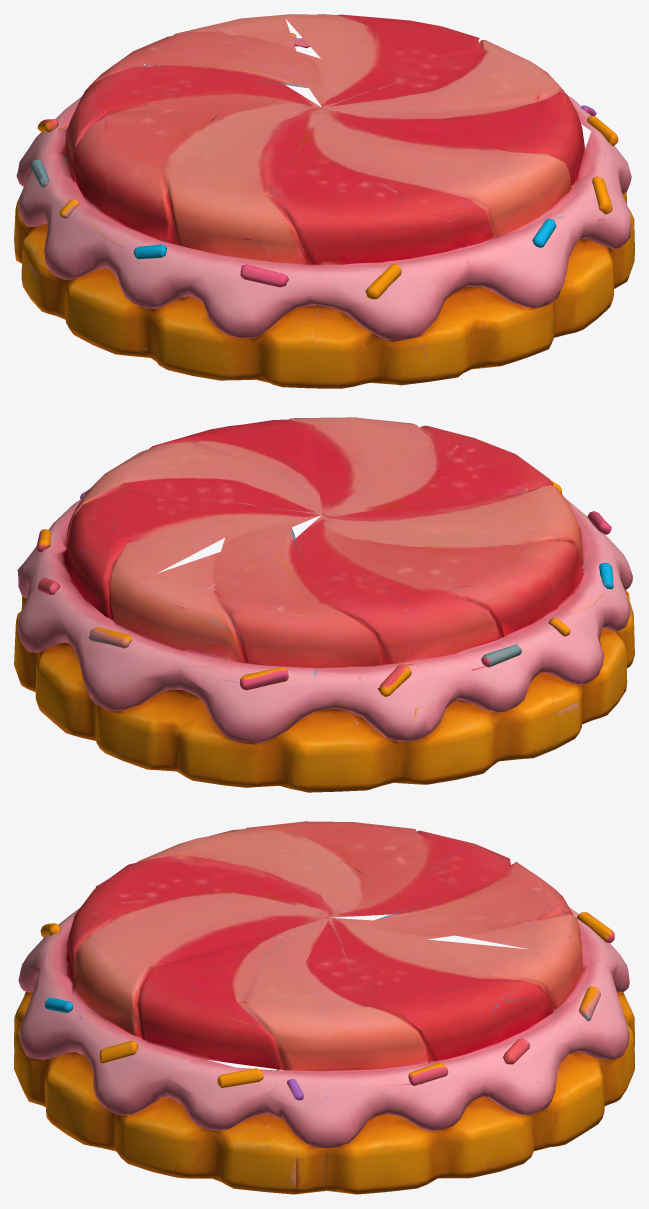
Rendered from candy_plate.glb.
3 renders of one model, top to bottom at view 1: azimuth 30°, elevation 25°; view 2: azimuth 150°, elevation 25°; view 3: azimuth 270°, elevation 25°, orthographic.
Size of what is drawn, in the model's own units: 3.57 by 1 by 3.55.
1 material, 1 textured.
